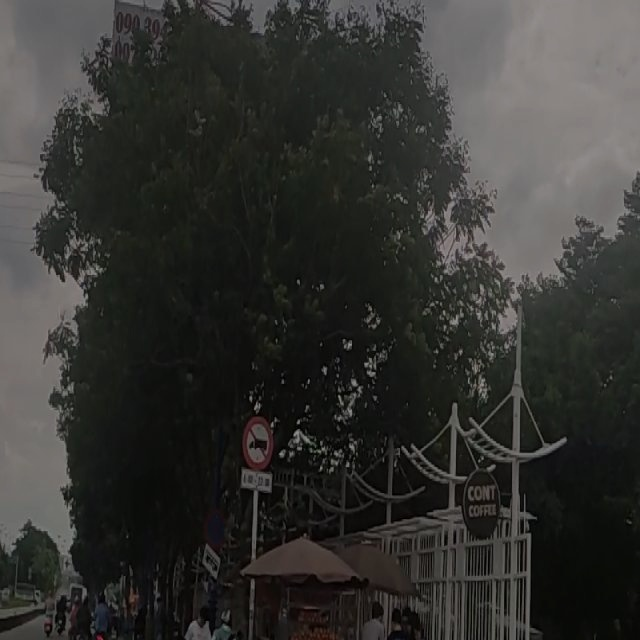B.8a: (244, 418, 276, 490)
